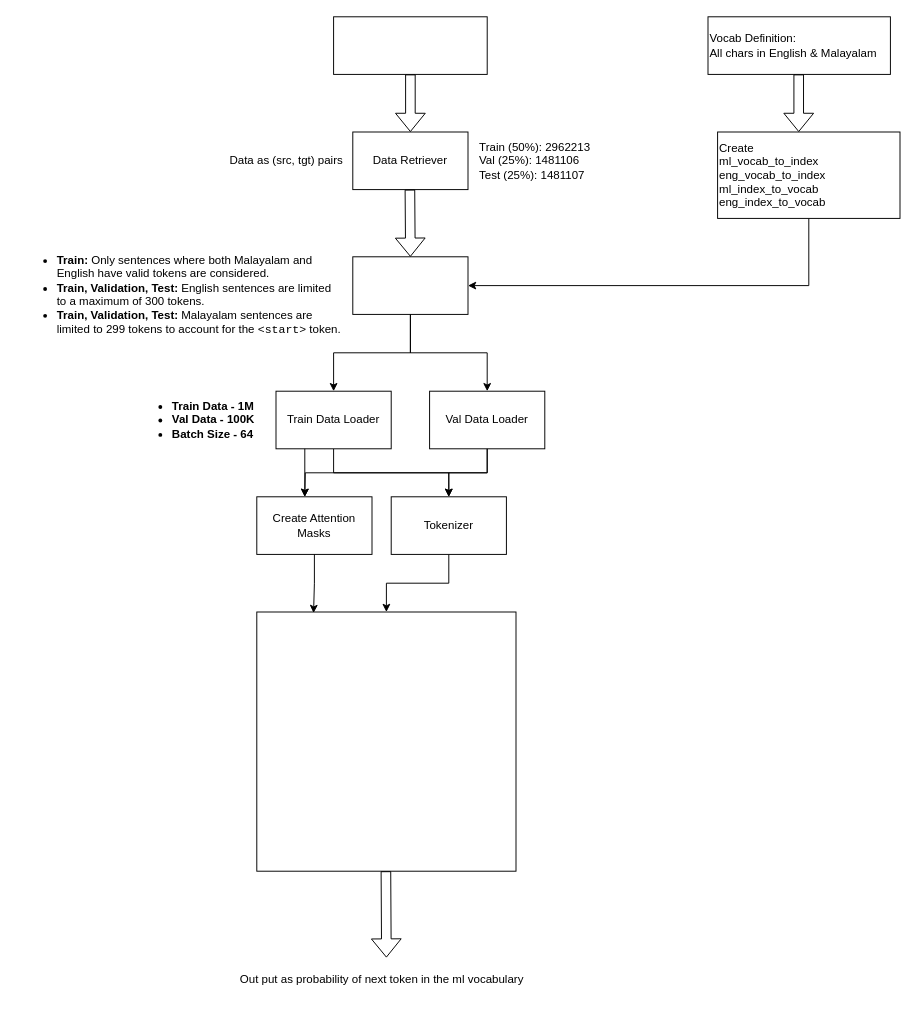
Image size: 917x1011. Some labels were removed from this diagram. Each missing label, with the centre of its shape:
HuggingFace Dataset "ai4bharat/samanantar": (410,45)
Preprocessing: (410,285)
Transformer: (386,741)
